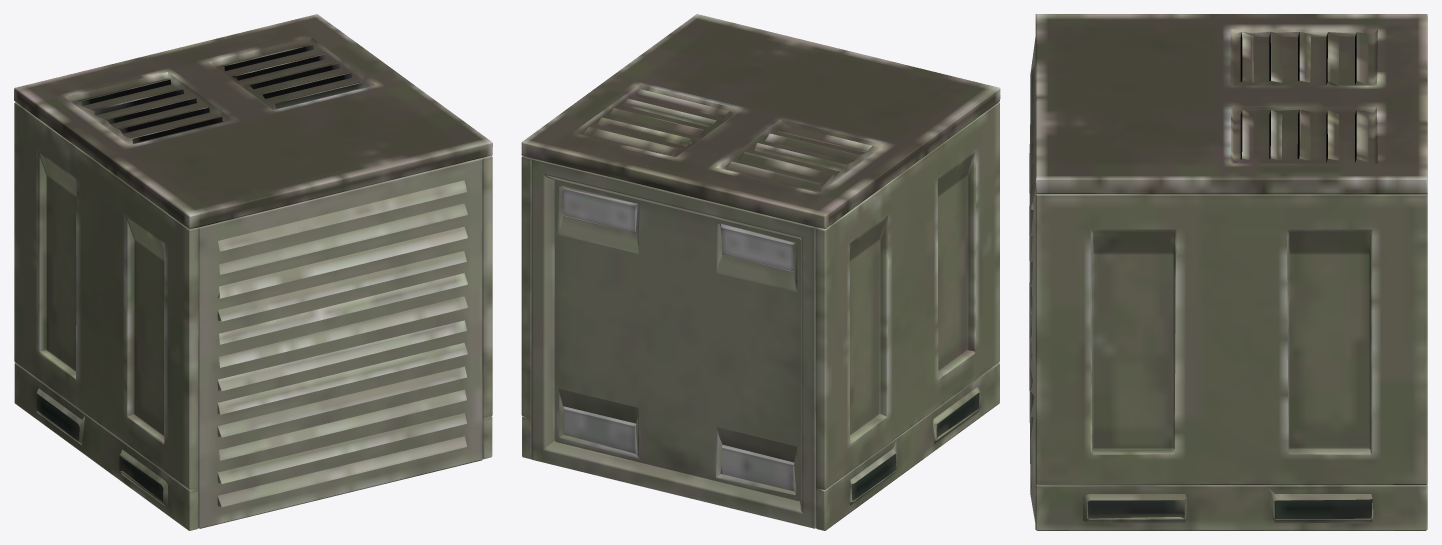
File: AirConditioner_C.glb
3 views of the same model, side by side, from view 1: azimuth 30°, elevation 25°; view 2: azimuth 150°, elevation 25°; view 3: azimuth 270°, elevation 25° (orthographic). The views are drawn at different scales.
Visible parts, largest first — view 1: ACUnit; view 2: ACUnit; view 3: ACUnit.
Boxes of the visible parts, box(x1,y1,x2,y2) form: ACUnit: box(14, 14, 492, 530); ACUnit: box(521, 14, 1000, 530); ACUnit: box(1029, 14, 1427, 530).
Bounding box in the file's own units: 0.9215 × 0.8993 × 0.9179.
Materials: 1 (1 with a texture image).
